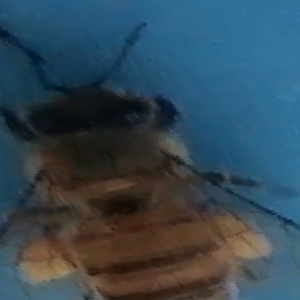bee: (5, 30, 282, 298)
